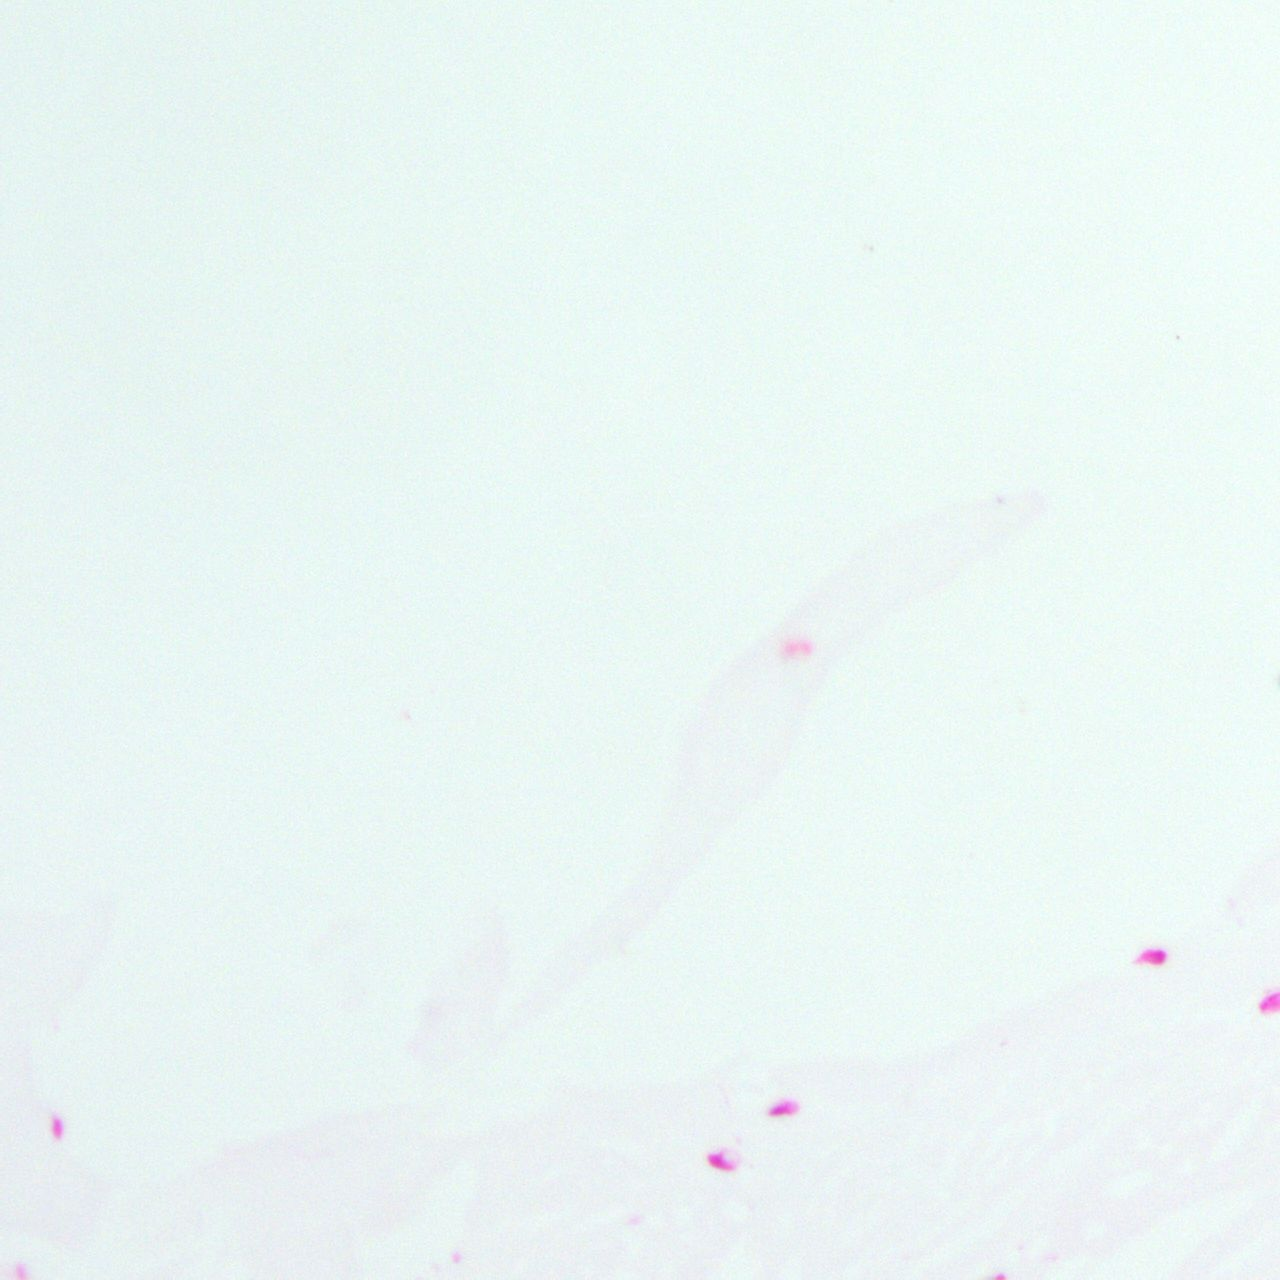nucleus-FG: (703, 1148, 738, 1176), (770, 1099, 795, 1116), (1141, 949, 1164, 964)
